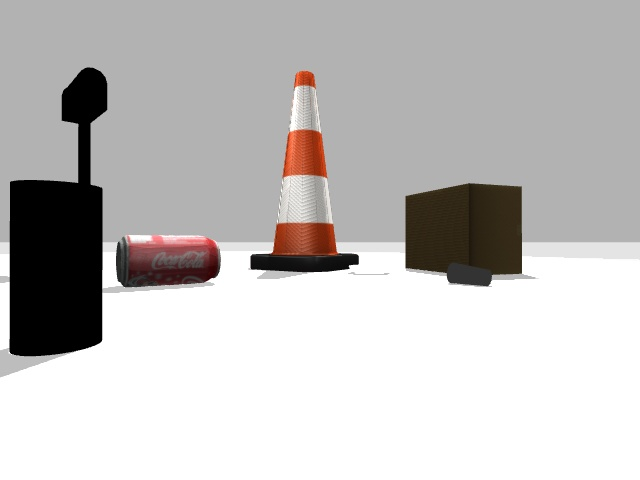boite_lettres: (61, 67, 107, 184)
bol: (349, 265, 389, 274)
bouteille_verre: (10, 182, 102, 355)
canette: (116, 235, 220, 286)
carton: (405, 184, 521, 274)
cone_chantier: (251, 71, 358, 271)
gobelet: (447, 263, 491, 285)
